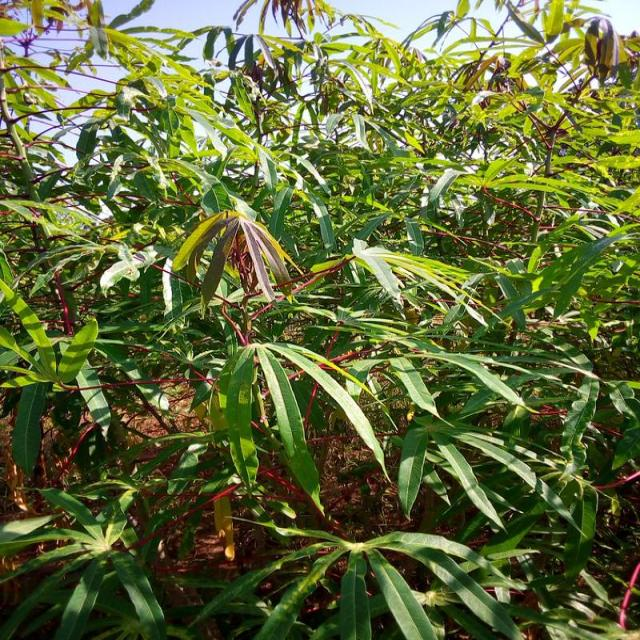cassava leaf: (170, 208, 292, 313), (224, 346, 258, 488)
